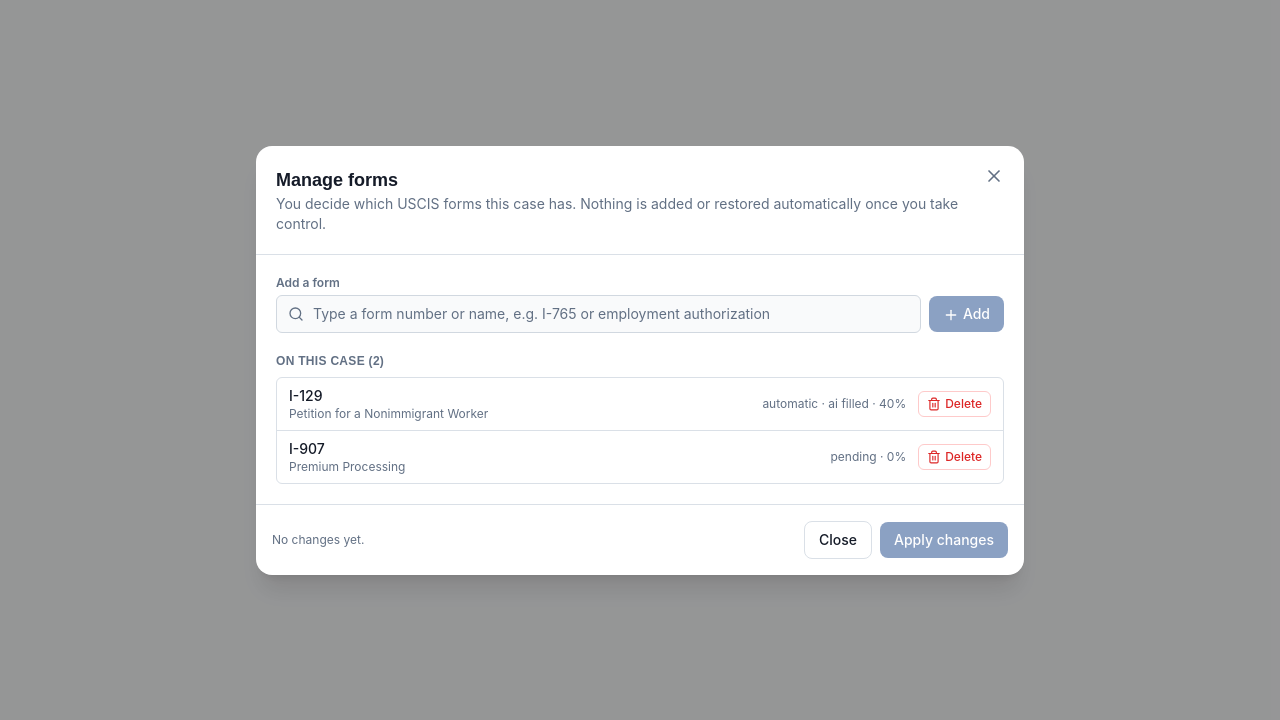
Test: Manage forms › an ambiguous or unknown name is explained, never guessed
This screenshot has width=1280, height=720.
Expected: the heading "On this case (2)" is shown, [276,354,384,368]
Step 1. Replace the text in the field with placeholder "Type a form number or name" with "zzz" → (598, 314), box [276,294,921,332]
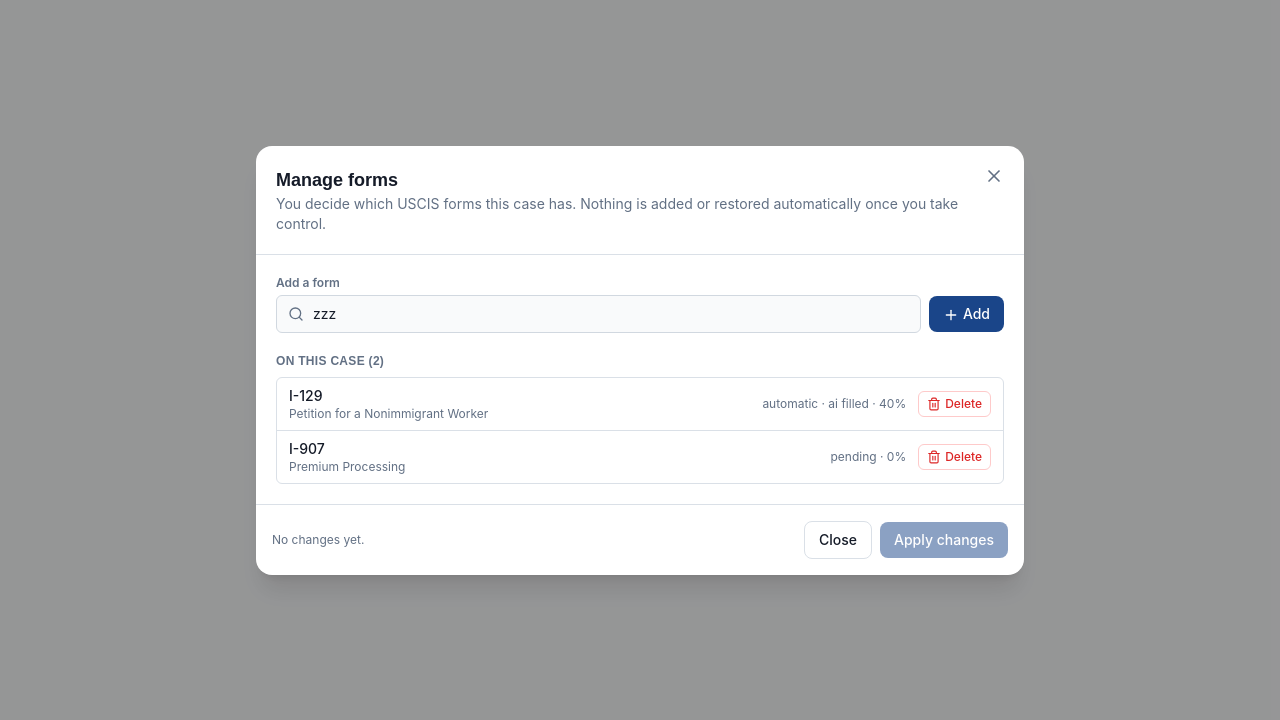
Step 2. Click the button "Add" → (966, 314), box [929,296,1004,332]
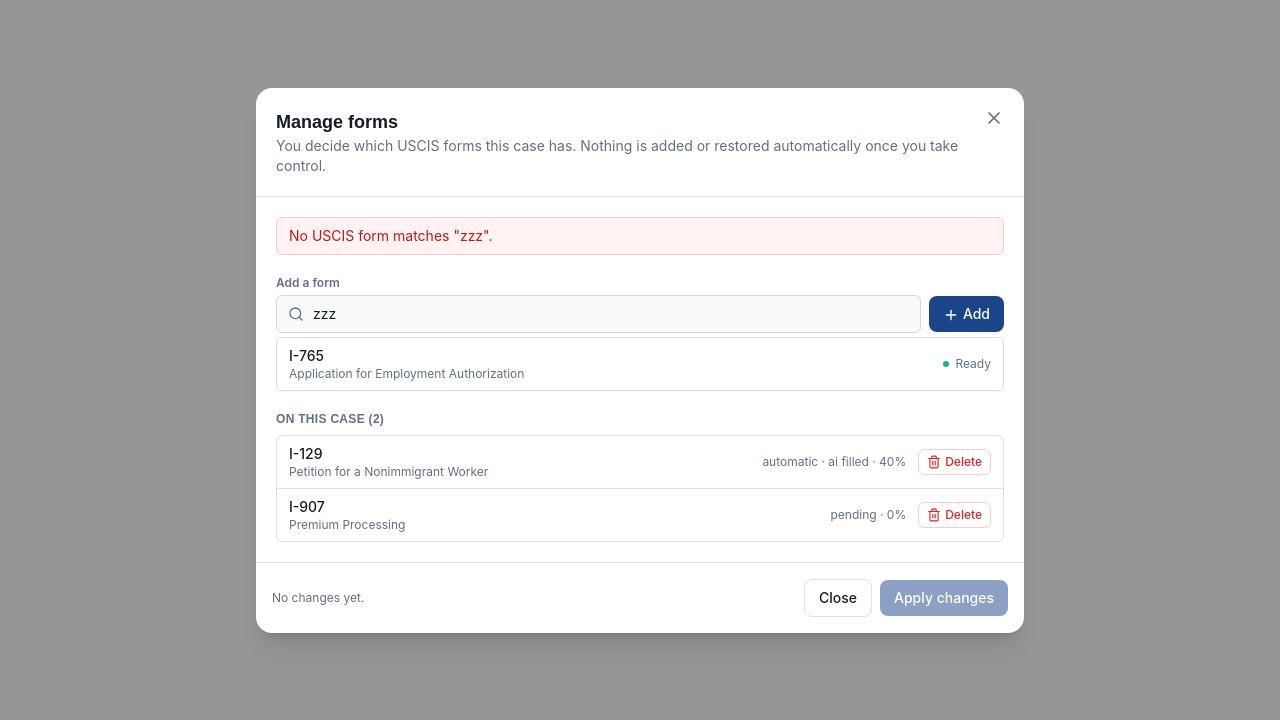
Result: the text "No USCIS form matches \"zzz\"." is shown at [276,216,1004,254]
